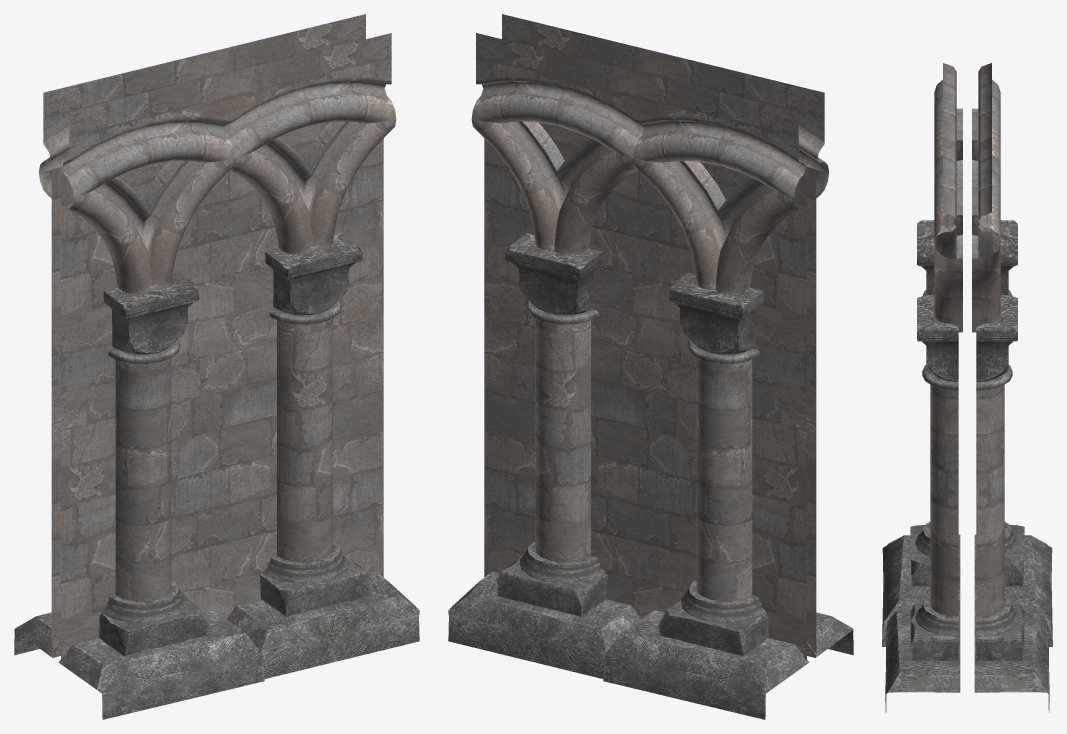
The picture shows the model from 3 angles, left to right: view 1: azimuth 30°, elevation 25°; view 2: azimuth 150°, elevation 25°; view 3: azimuth 270°, elevation 25°; orthographic projection. The views are drawn at different scales.
Visible parts, largest first — view 1: SM_Dungeon_RoomDestructibleWall_LOD0; view 2: SM_Dungeon_RoomDestructibleWall_LOD0; view 3: SM_Dungeon_RoomDestructibleWall_LOD0.
Part boxes in pixels (bbox=[...]): SM_Dungeon_RoomDestructibleWall_LOD0: bbox=[14, 14, 419, 719]; SM_Dungeon_RoomDestructibleWall_LOD0: bbox=[448, 14, 853, 719]; SM_Dungeon_RoomDestructibleWall_LOD0: bbox=[882, 63, 1052, 712].
Bounding box in the file's own units: 2.01 × 3.47 × 0.9662.
2 materials, 2 textured.
